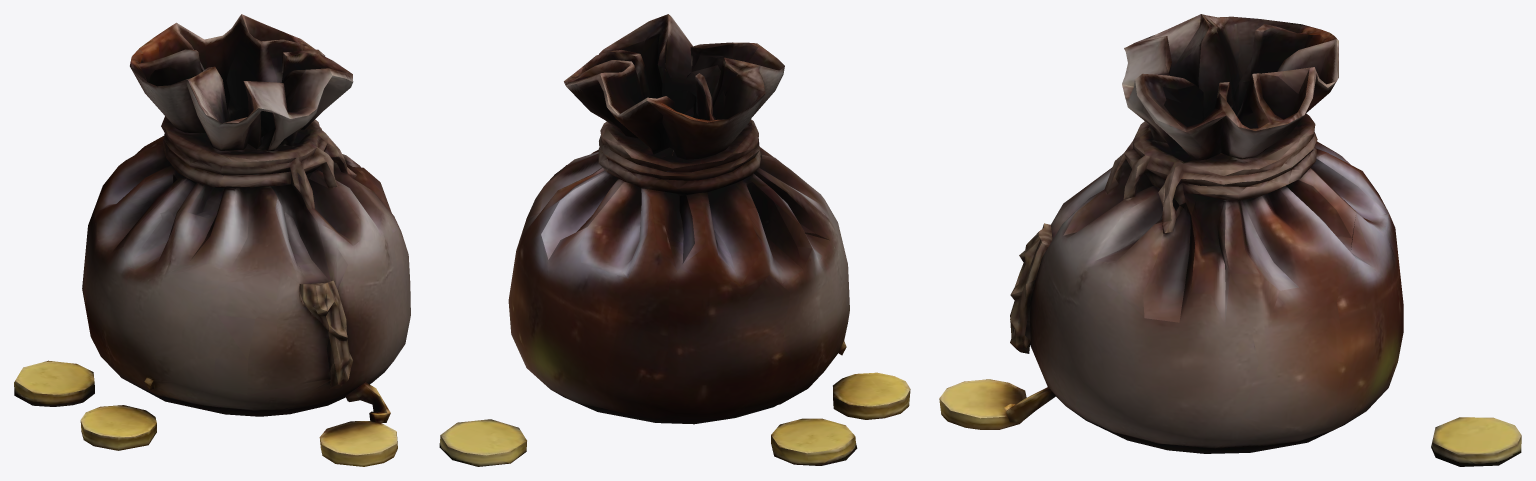
The model's file is prop-pickup-coin.glb.
The picture shows the model from 3 angles, left to right: view 1: azimuth 30°, elevation 25°; view 2: azimuth 150°, elevation 25°; view 3: azimuth 270°, elevation 25°; orthographic projection. The views are drawn at different scales.
Parts seen in each view (by area): view 1: prop-pickup-coin; view 2: prop-pickup-coin; view 3: prop-pickup-coin.
Part boxes in pixels (left/top/right/bottom): prop-pickup-coin: left=14, top=14, right=410, bottom=466; prop-pickup-coin: left=439, top=14, right=910, bottom=466; prop-pickup-coin: left=939, top=14, right=1521, bottom=466.
Size of the model in its own units: 0.3487 by 0.3183 by 0.4637.
Materials: 1 (1 with a texture image).
